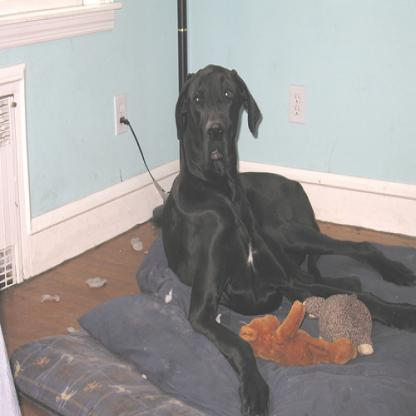dog: (161, 62, 415, 415)
